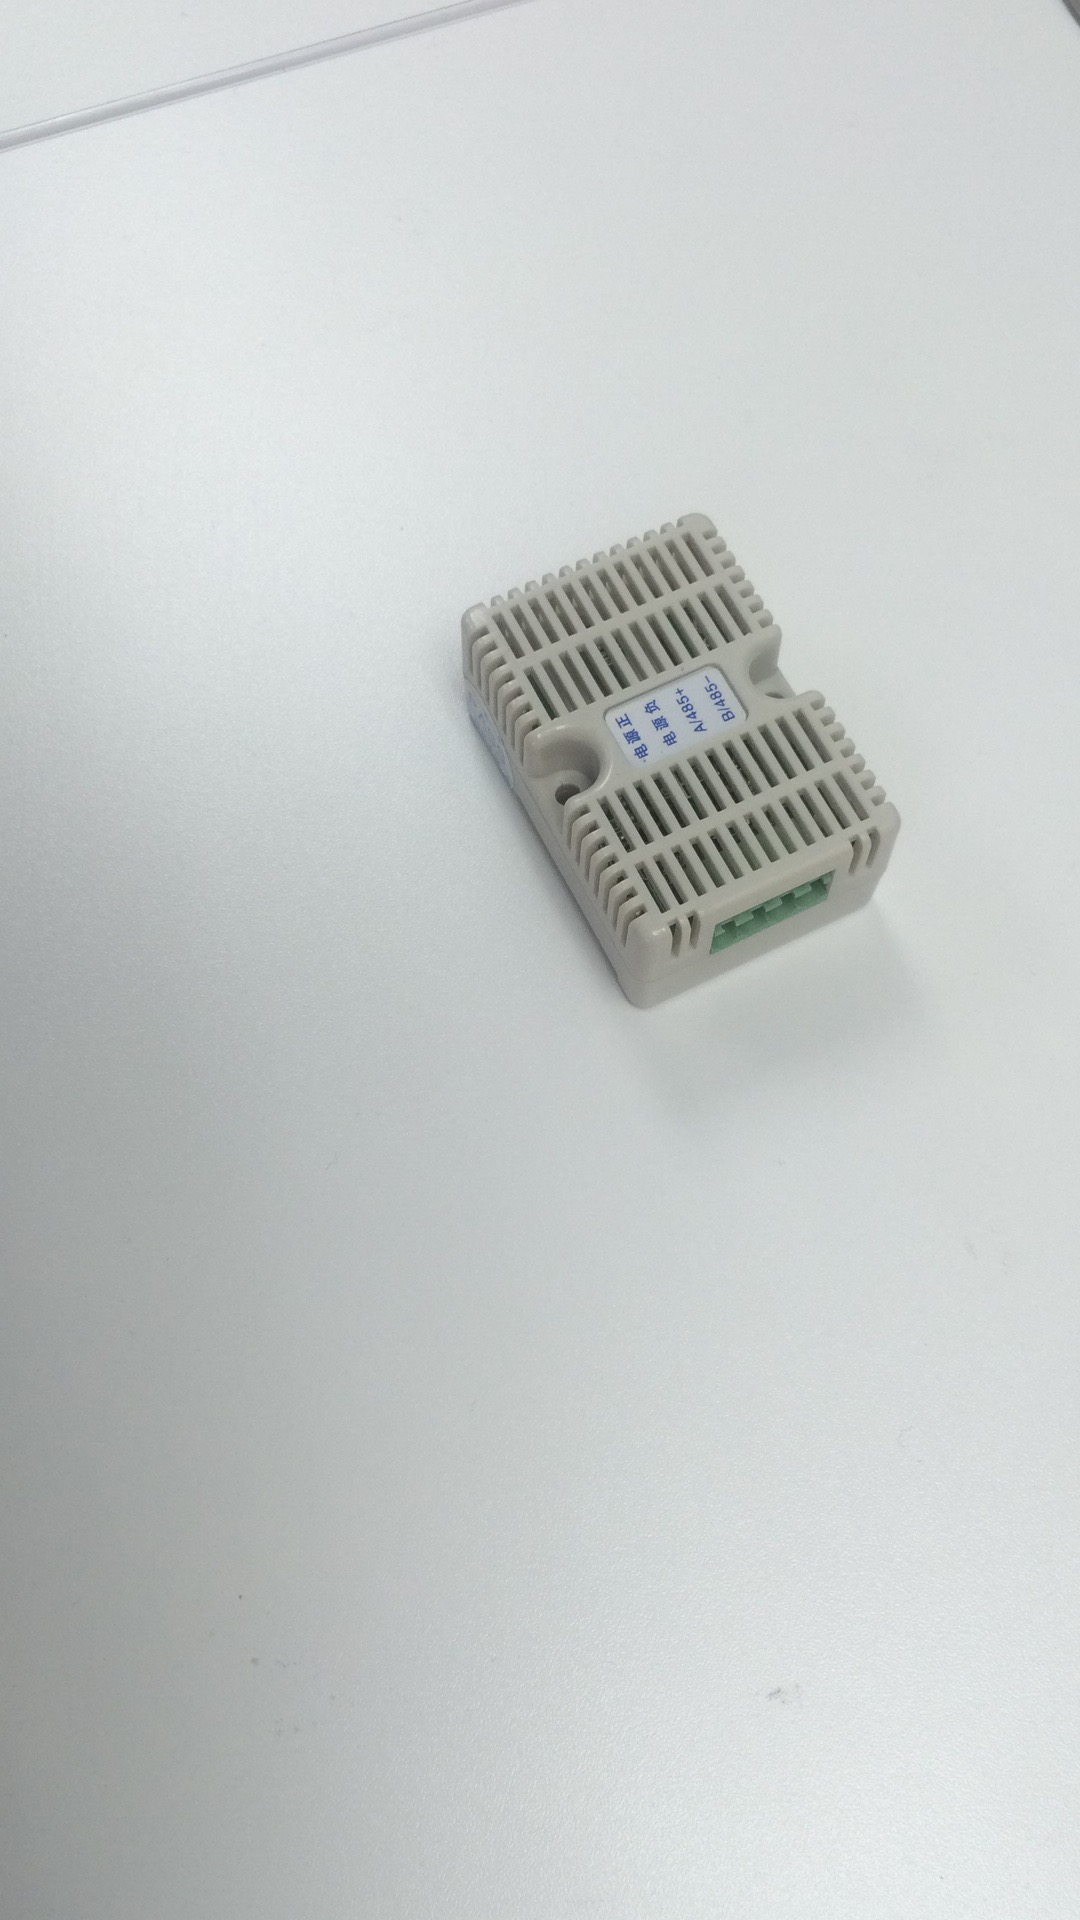temperature: (440, 500, 957, 1036)
